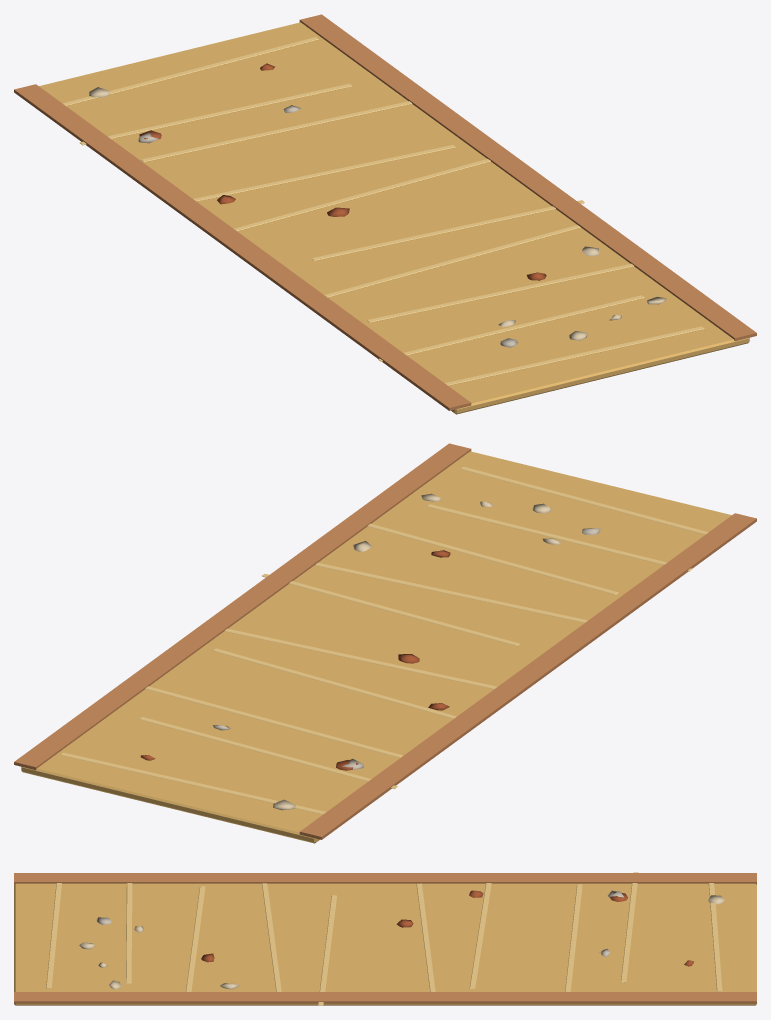
File: hd_rd_sand.gltf
The picture shows the model from 3 angles, top to bottom: view 1: azimuth 30°, elevation 25°; view 2: azimuth 150°, elevation 25°; view 3: azimuth 270°, elevation 25°; orthographic projection. The views are drawn at different scales.
Visible parts, largest first — view 1: wash, edge0, edge1, rip7, rip2, rip5, rip3, rip6, rip0, rip4, rip8, rip9 (+1 smaller); view 2: wash, edge0, edge1, rip5, rip3, rip7, rip2, rip0, rip6, rip9, rip1, rip8 (+1 smaller); view 3: wash, edge1, edge0, rip5, rip3, rip7, rip2, rip0, rip6, rip9, rip1, rip4 (+1 smaller).
Boxes of the visible parts, x1,y1,x2,y2 form: wash: [39, 22, 749, 414]; edge0: [14, 84, 471, 410]; edge1: [299, 14, 756, 341]; rip7: [141, 101, 412, 162]; rip2: [367, 263, 634, 322]; rip5: [234, 159, 490, 231]; rip3: [324, 225, 580, 297]; rip6: [193, 145, 455, 201]; rip0: [445, 326, 704, 385]; rip4: [311, 200, 584, 260]; rip8: [79, 83, 352, 145]; rip9: [62, 37, 318, 105]; wash: [21, 451, 731, 843]; edge0: [299, 513, 756, 839]; edge1: [14, 443, 471, 770]; rip5: [224, 628, 497, 689]; rip3: [315, 563, 587, 622]; rip7: [145, 686, 402, 757]; rip2: [367, 523, 618, 594]; rip0: [461, 466, 708, 534]; rip6: [213, 648, 456, 718]; rip9: [61, 752, 326, 814]; rip1: [427, 504, 692, 571]; rip8: [139, 717, 397, 788]; wash: [14, 883, 756, 1005]; edge1: [14, 992, 756, 1003]; edge0: [14, 873, 756, 884]; rip5: [416, 883, 435, 991]; rip3: [262, 883, 281, 991]; rip7: [565, 884, 582, 991]; rip2: [185, 886, 205, 991]; rip0: [46, 883, 61, 988]; rip6: [469, 883, 491, 988]; rip9: [708, 883, 722, 991]; rip1: [126, 883, 132, 983]; rip4: [318, 895, 336, 1005].
Bounding box in the file's own units: 10.15 × 0.3272 × 24.
